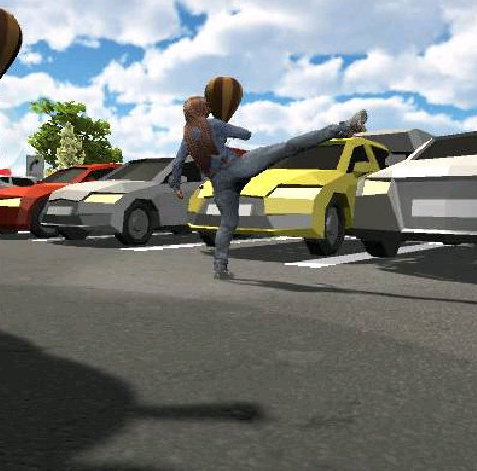turn_right: (167, 96, 368, 287)
